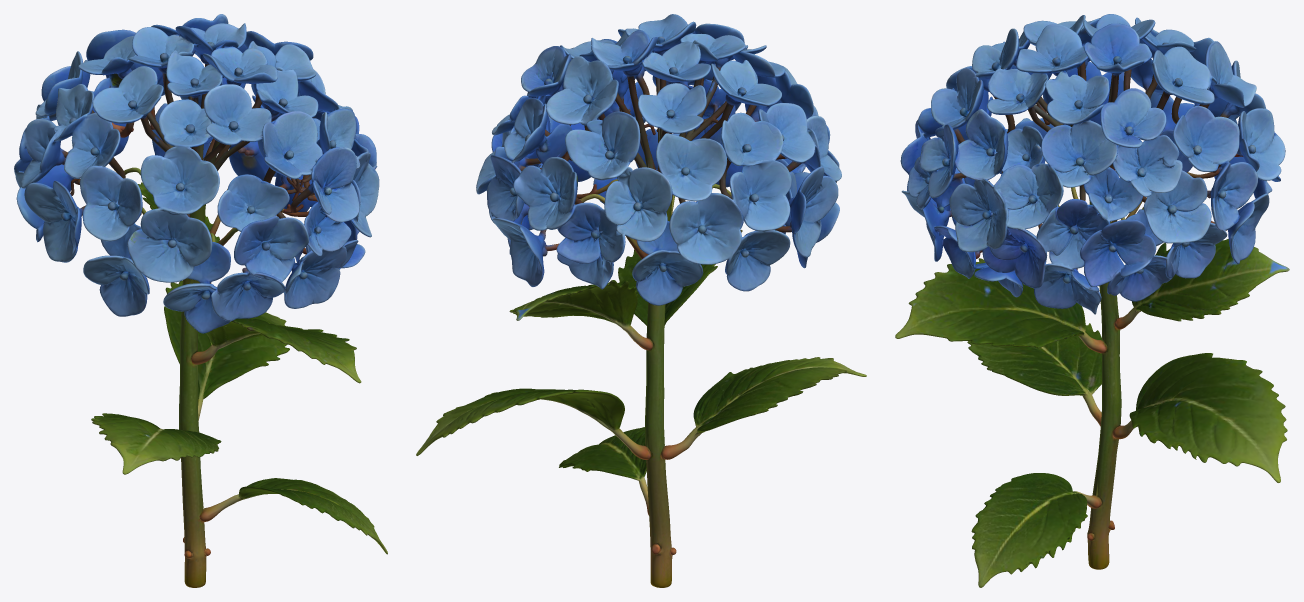
File: blue hydrangea 1.glb
The picture shows the model from 3 angles, left to right: view 1: azimuth 30°, elevation 25°; view 2: azimuth 150°, elevation 25°; view 3: azimuth 270°, elevation 25°; orthographic projection.
Parts seen in each view (by area): view 1: tripo_node_a605b00a-487f-48ab-9471-fdafeda07785; view 2: tripo_node_a605b00a-487f-48ab-9471-fdafeda07785; view 3: tripo_node_a605b00a-487f-48ab-9471-fdafeda07785.
Boxes of the visible parts, <box> form: tripo_node_a605b00a-487f-48ab-9471-fdafeda07785: <box>14,14,387,587</box>; tripo_node_a605b00a-487f-48ab-9471-fdafeda07785: <box>416,14,866,587</box>; tripo_node_a605b00a-487f-48ab-9471-fdafeda07785: <box>895,14,1289,587</box>.
Size of the model in its own units: 0.5869 by 0.9803 by 0.6456.
1 material, 1 textured.
